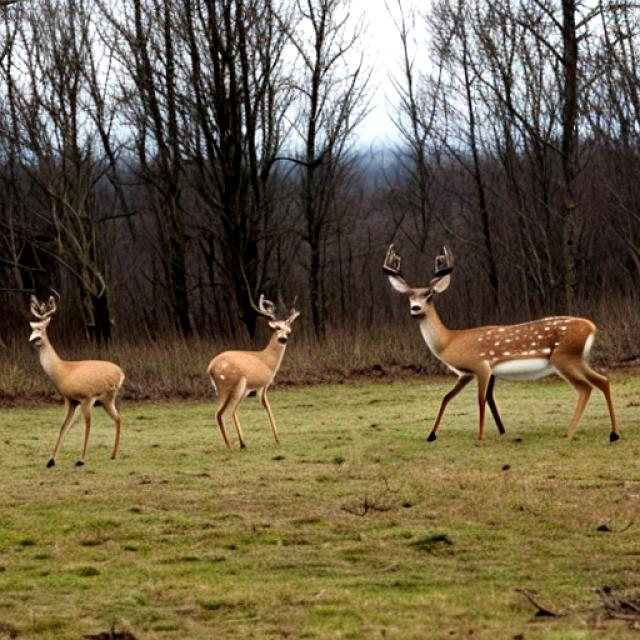deer: (360, 231, 632, 459), (0, 272, 142, 489), (182, 286, 314, 463)
